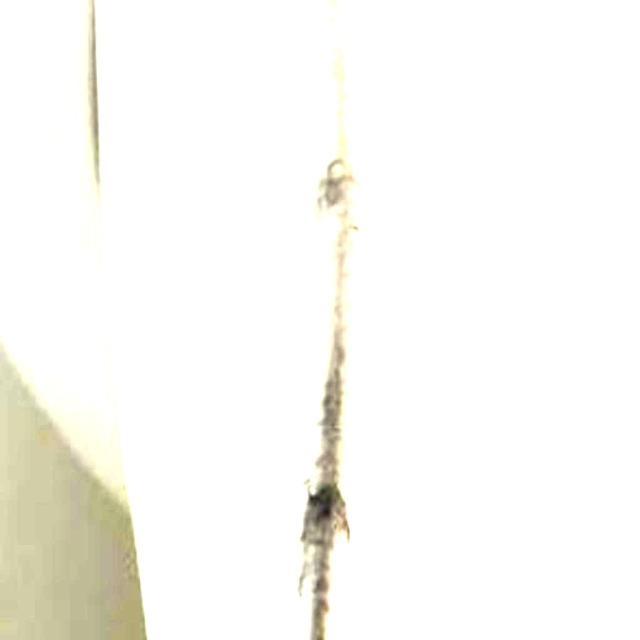corrosion: (302, 150, 364, 622)
